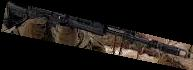gun: (1, 0, 193, 70)
